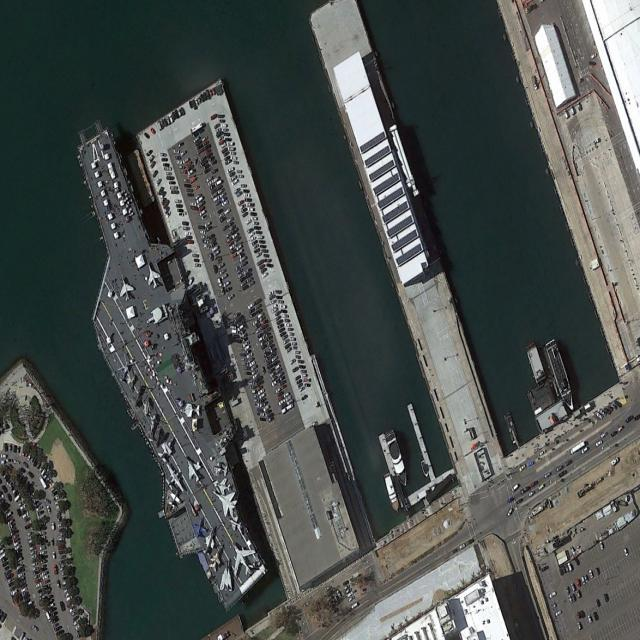Aircraft Carrier: (37, 99, 282, 634)
Yacht: (545, 338, 577, 416), (384, 429, 410, 489), (383, 471, 401, 513)
